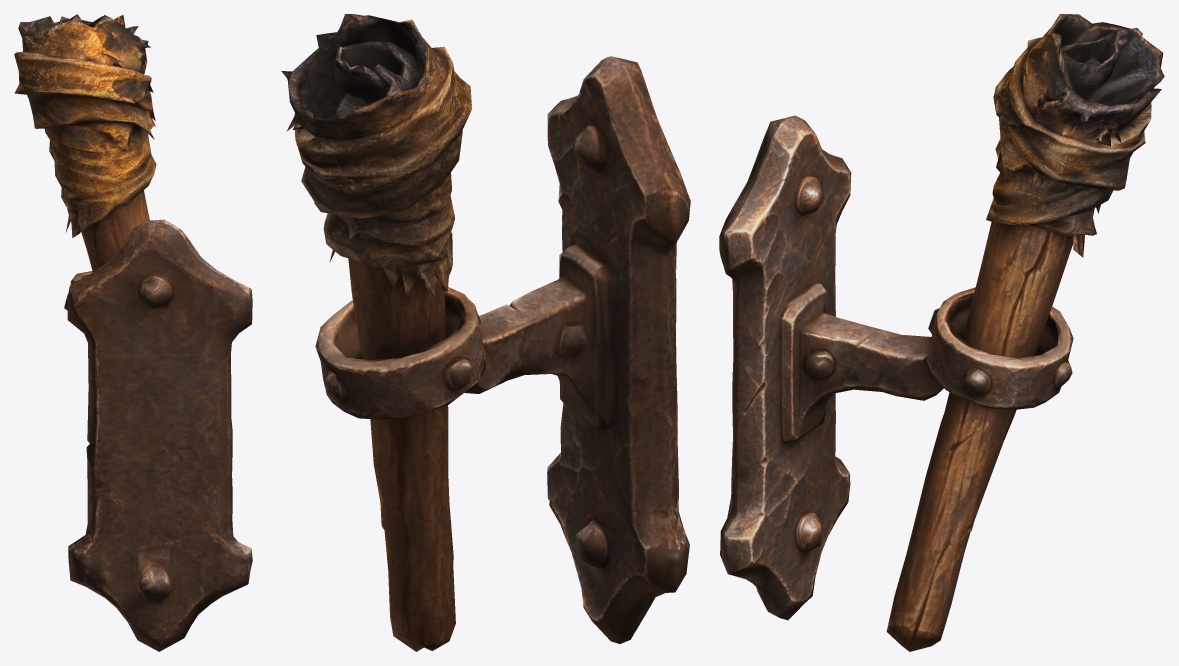
File: tocha-parede.glb
3 views of the same model, side by side, from view 1: azimuth 30°, elevation 25°; view 2: azimuth 150°, elevation 25°; view 3: azimuth 270°, elevation 25° (orthographic). The views are drawn at different scales.
Visible parts, largest first — view 1: tripo_node_ce1b0feb-06f7-4d75-b52b-122a7ad8a3ba; view 2: tripo_node_ce1b0feb-06f7-4d75-b52b-122a7ad8a3ba; view 3: tripo_node_ce1b0feb-06f7-4d75-b52b-122a7ad8a3ba.
Boxes of the visible parts, x1=… form: tripo_node_ce1b0feb-06f7-4d75-b52b-122a7ad8a3ba: x1=14, y1=14, x2=252, y2=651; tripo_node_ce1b0feb-06f7-4d75-b52b-122a7ad8a3ba: x1=281, y1=14, x2=690, y2=651; tripo_node_ce1b0feb-06f7-4d75-b52b-122a7ad8a3ba: x1=719, y1=14, x2=1164, y2=651.
Bounding box in the file's own units: 0.1506 × 0.4 × 0.2593.
Materials: 1 (1 with a texture image).
